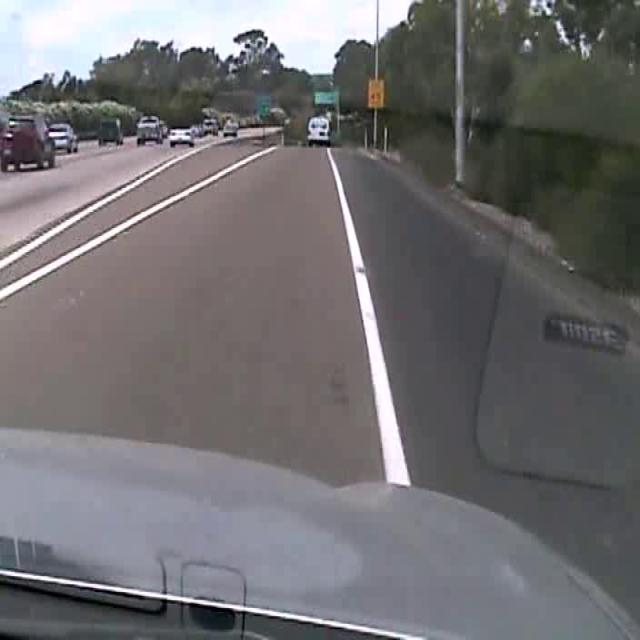speedLimit45: (366, 77, 384, 108)
